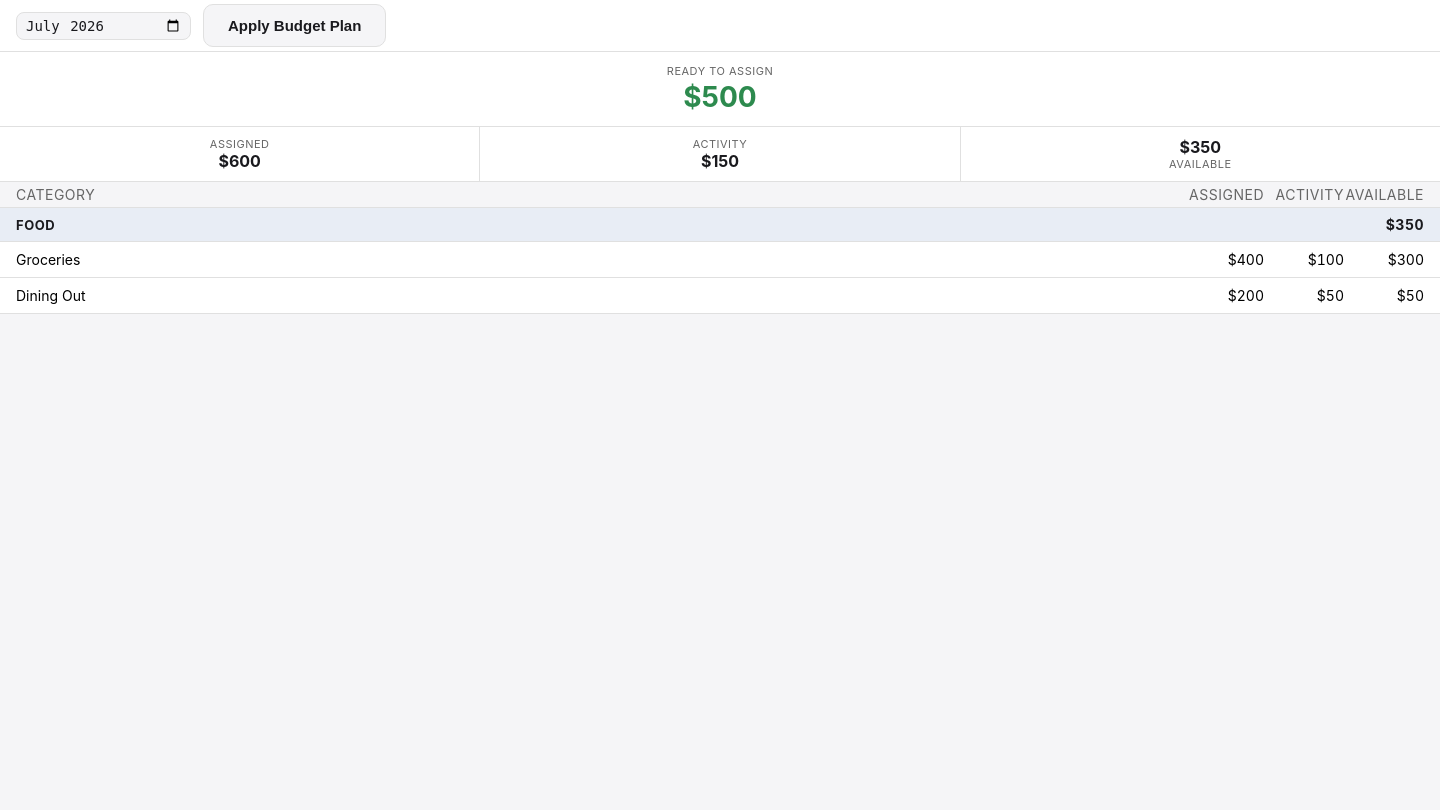
Plan screen — move money › confirm shows error and blocks save when amount exceeds source available
Click the button "Groceries $400 $100 $300" at (48, 260), box [0,242,1439,278]
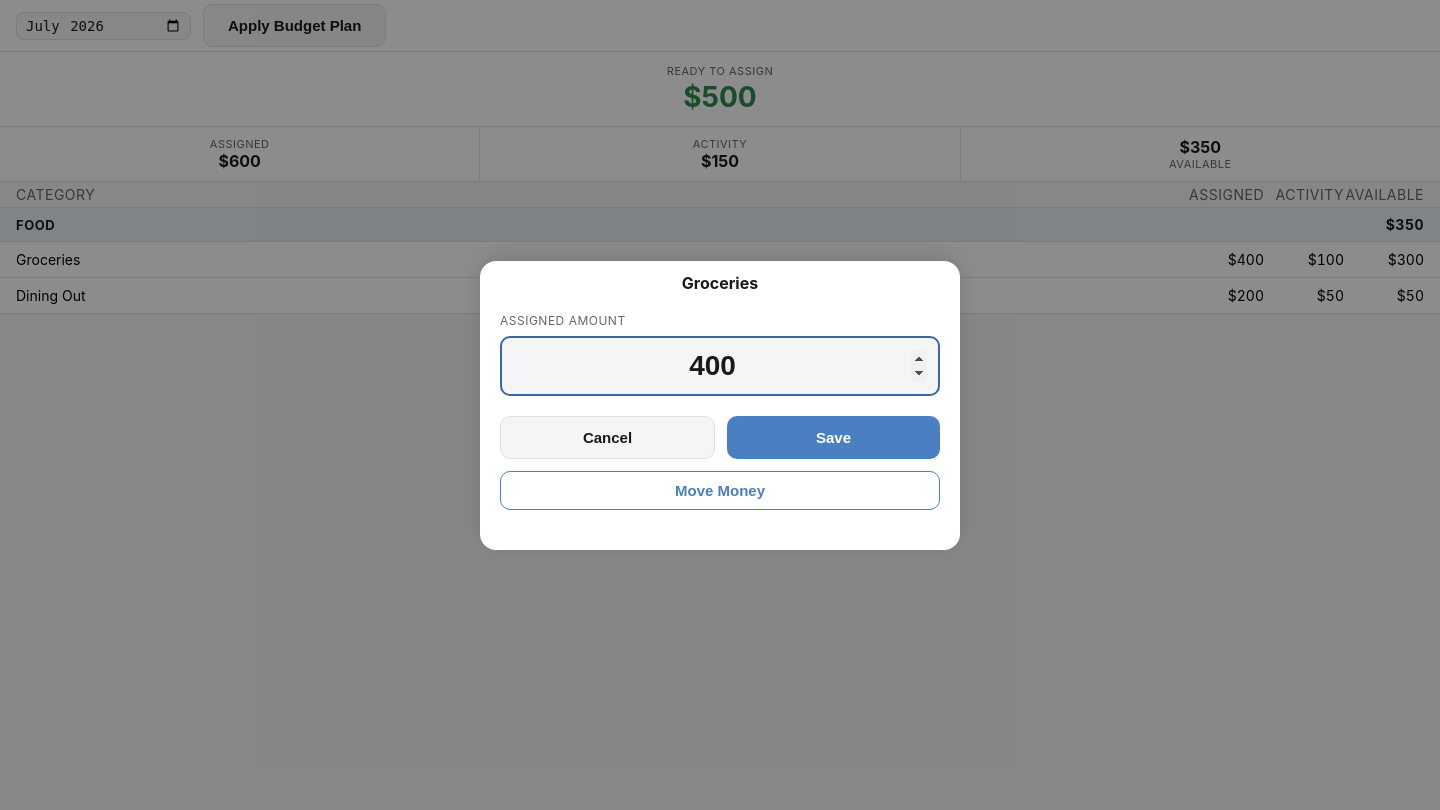
Click the button "Move Money" at (720, 490), box [500,470,940,510]
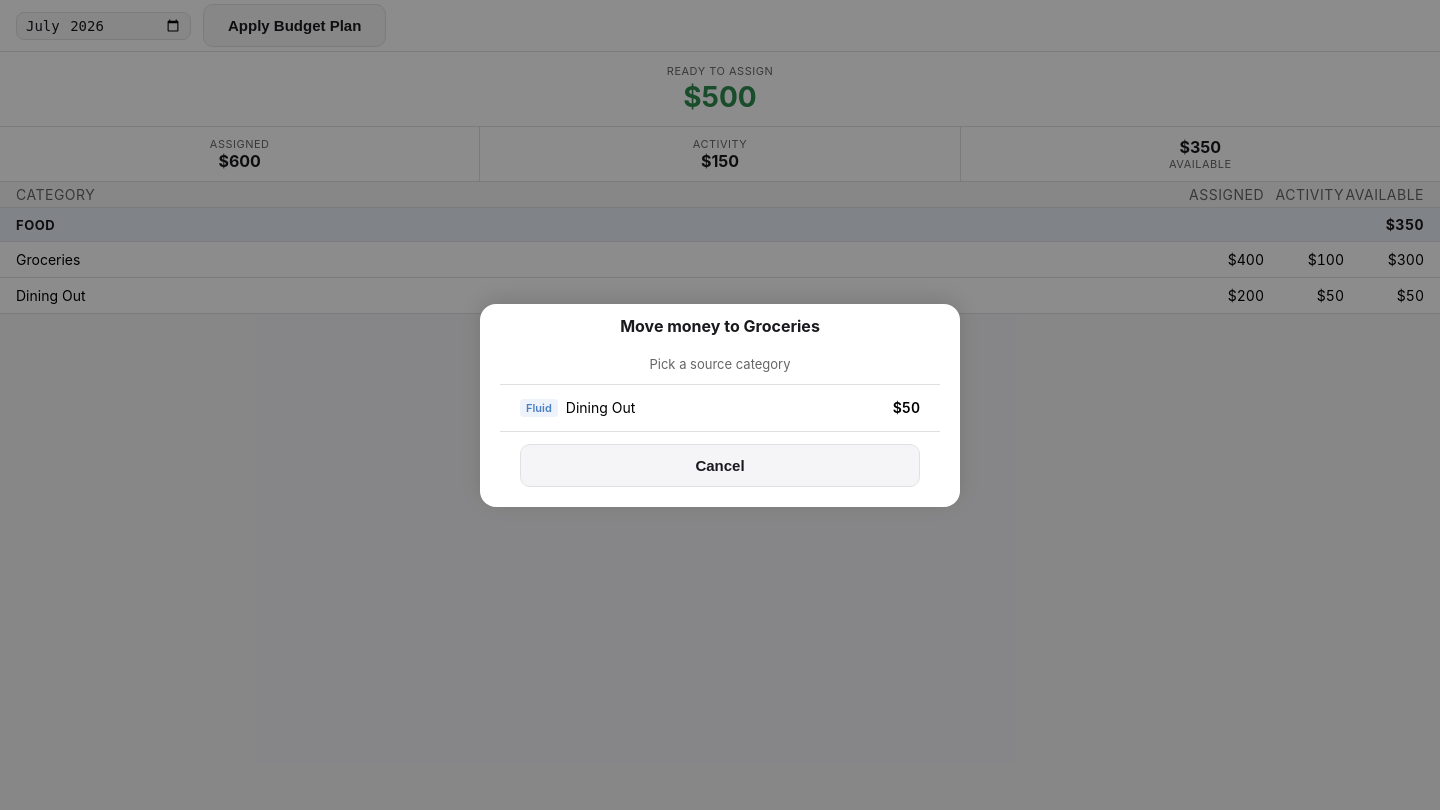
Click the button "Fluid Dining Out $50" at (539, 408), box [500,384,940,432]
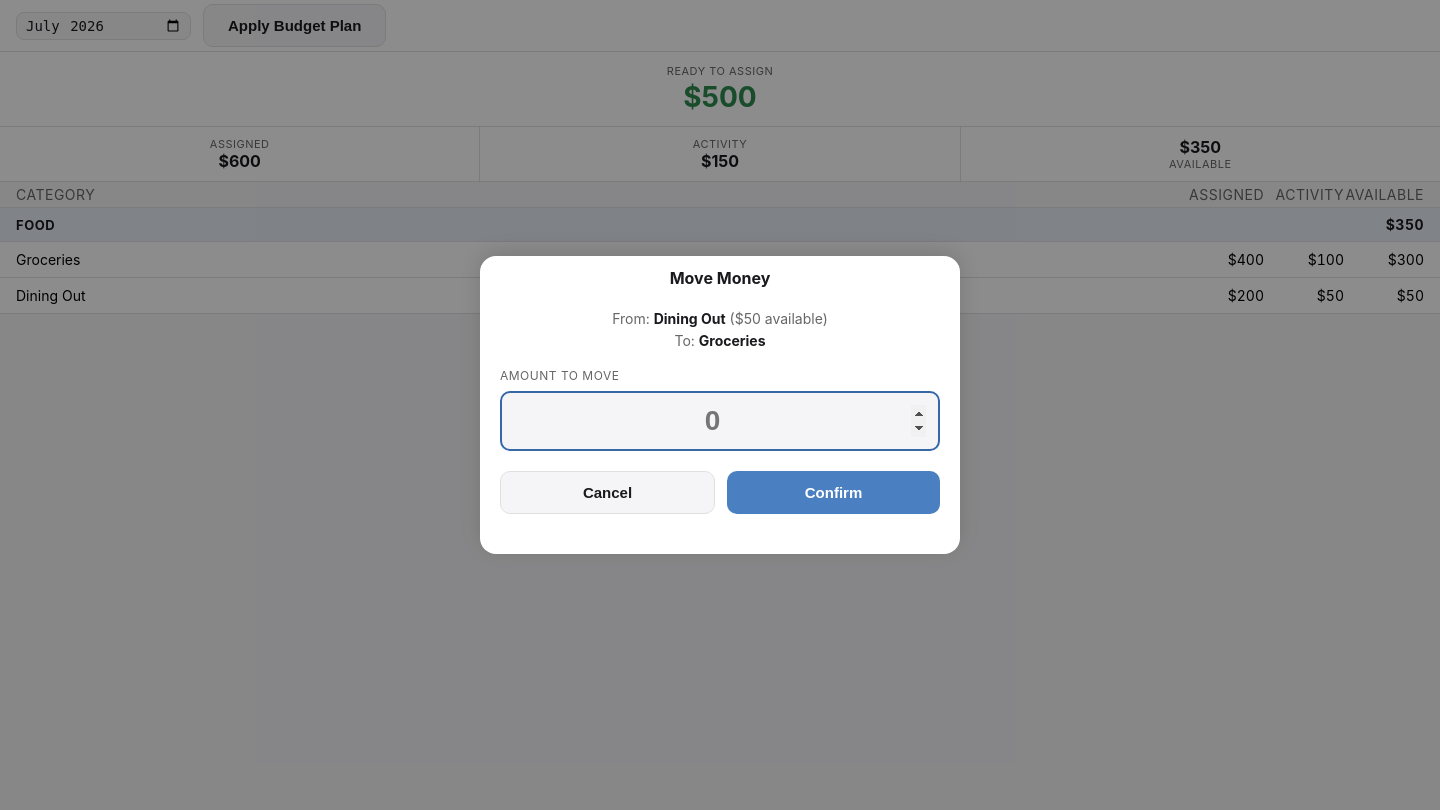
Type "100" into the number field at (720, 421), box [500,391,940,451]
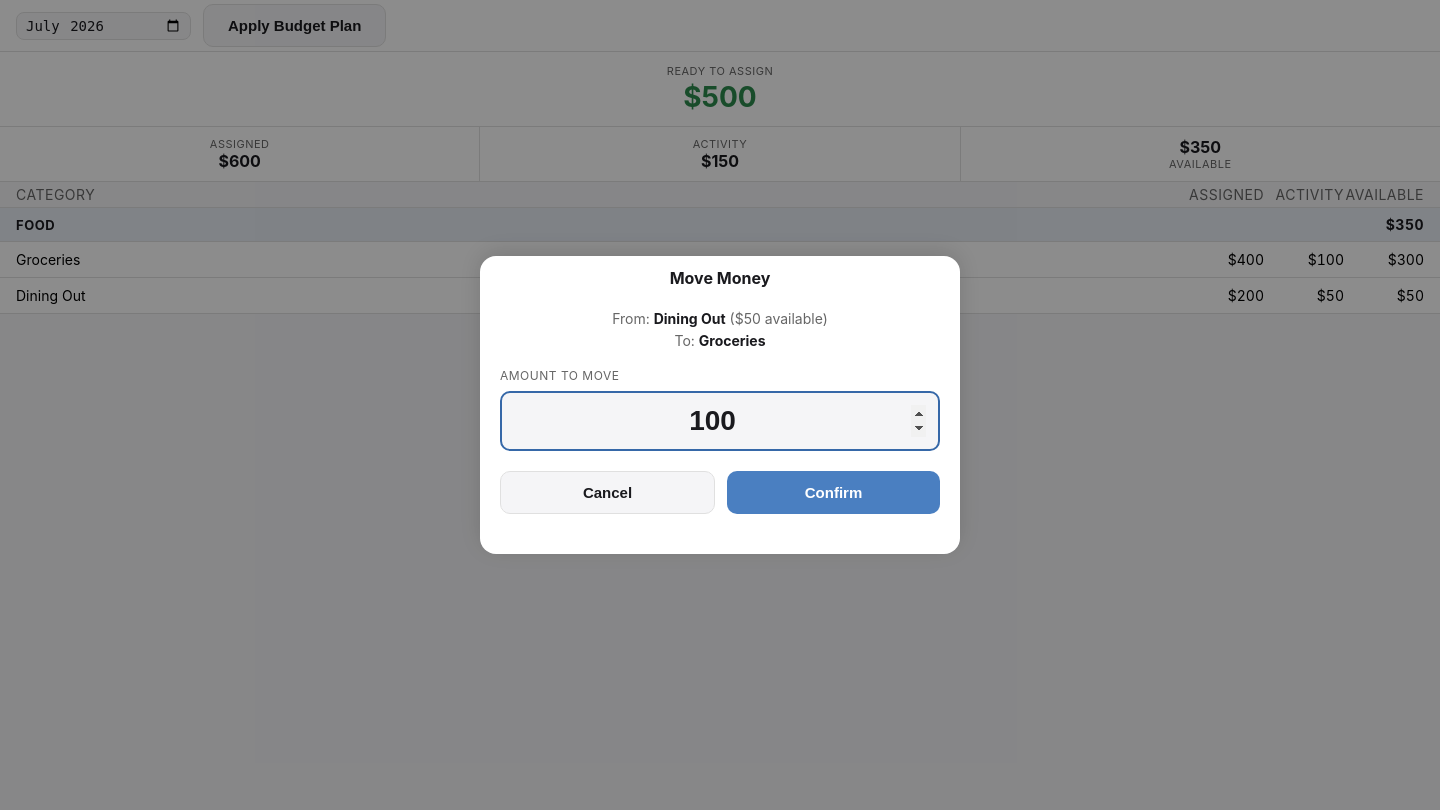
Click the button "Confirm" at (834, 493), box [727,471,940,514]
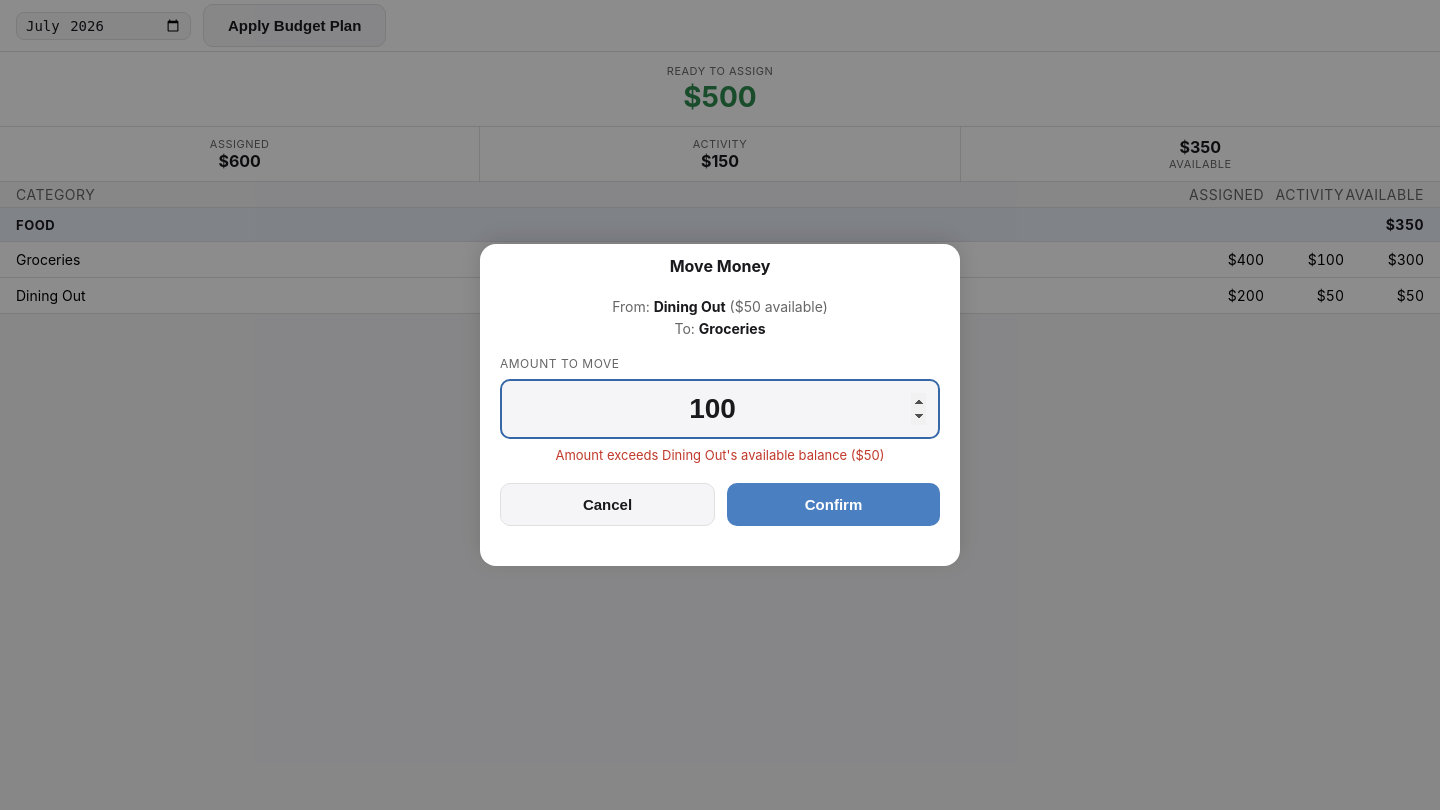
Now the text "Amount exceeds Dining Out's available balance ($50)" is shown, box [556,447,885,463]
